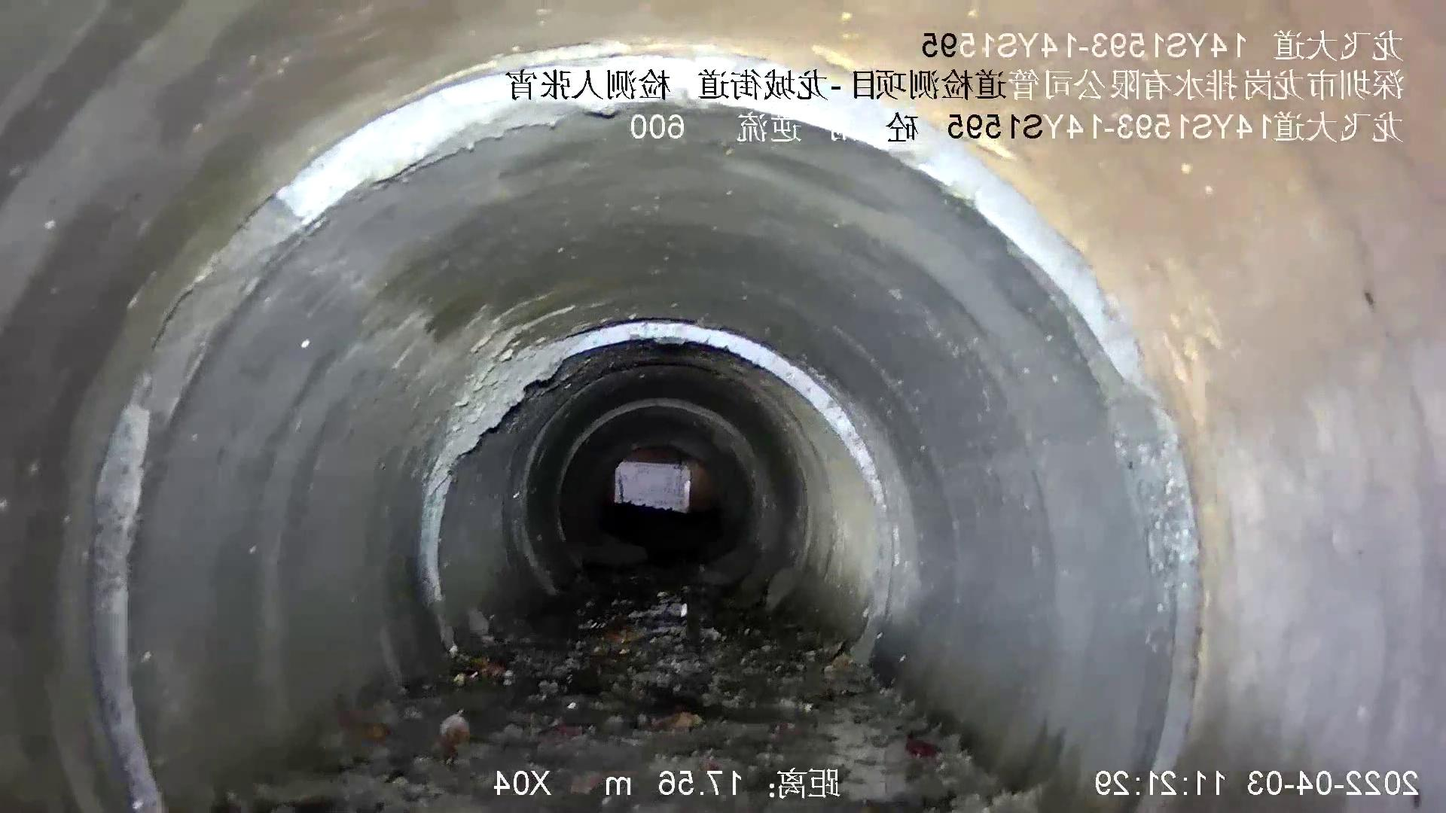CJ: (213, 575, 1043, 812)
CKTJ: (83, 42, 1203, 812), (418, 318, 909, 661), (515, 362, 720, 596), (554, 396, 761, 573)
